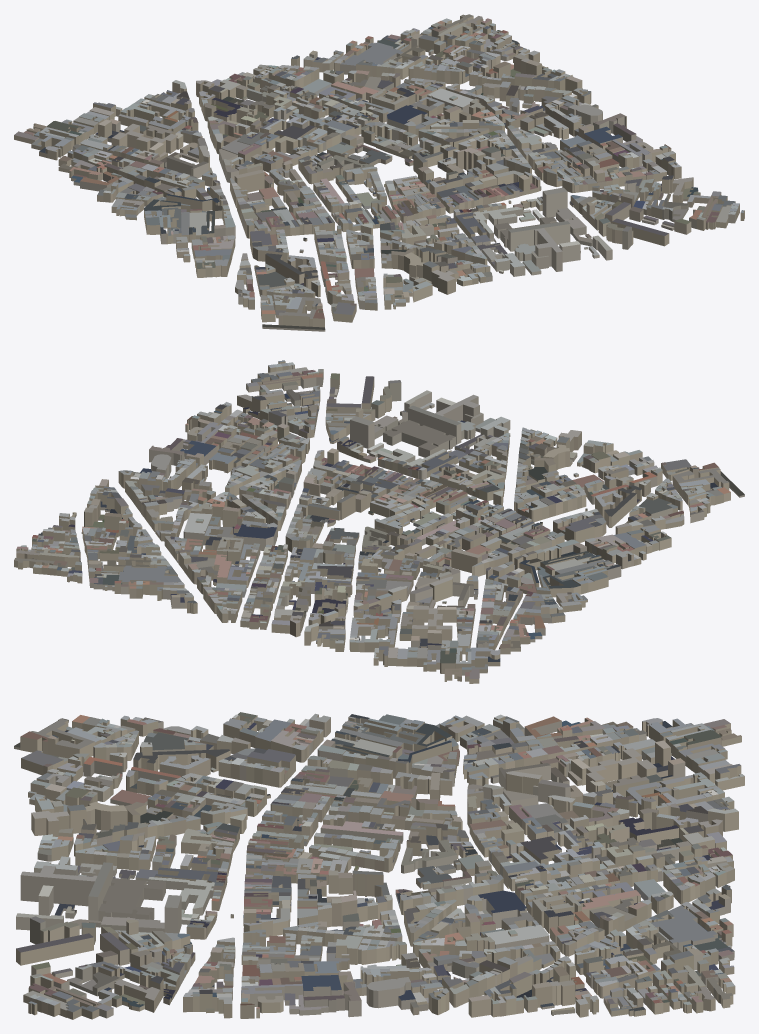
3 renders of one model, top to bottom at view 1: azimuth 30°, elevation 25°; view 2: azimuth 150°, elevation 25°; view 3: azimuth 270°, elevation 25°, orthographic. The views are drawn at different scales.
Visible parts, largest first — view 1: tuile; view 2: tuile; view 3: tuile.
Boxes of the visible parts, bbox=[...] form: tuile: bbox=[14, 14, 744, 331]; tuile: bbox=[14, 360, 744, 683]; tuile: bbox=[14, 712, 744, 1019].
Size of the model in its own units: 1026 by 58.14 by 1049.
